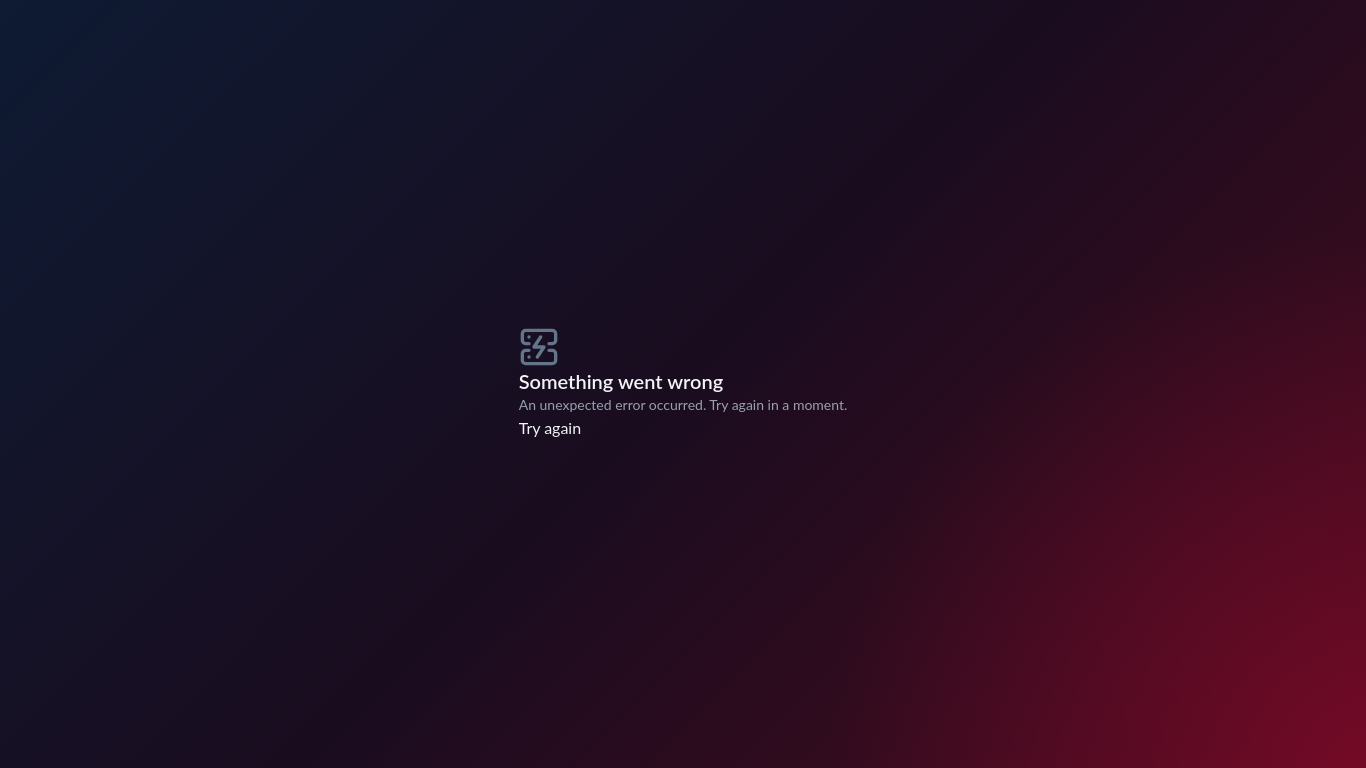
errors › boundary shows 500 and resets
Expected: the message shows "Something went wrong", [519,369,723,393]
Click the button "Try again".
click(550, 428)  # box [519,415,581,441]
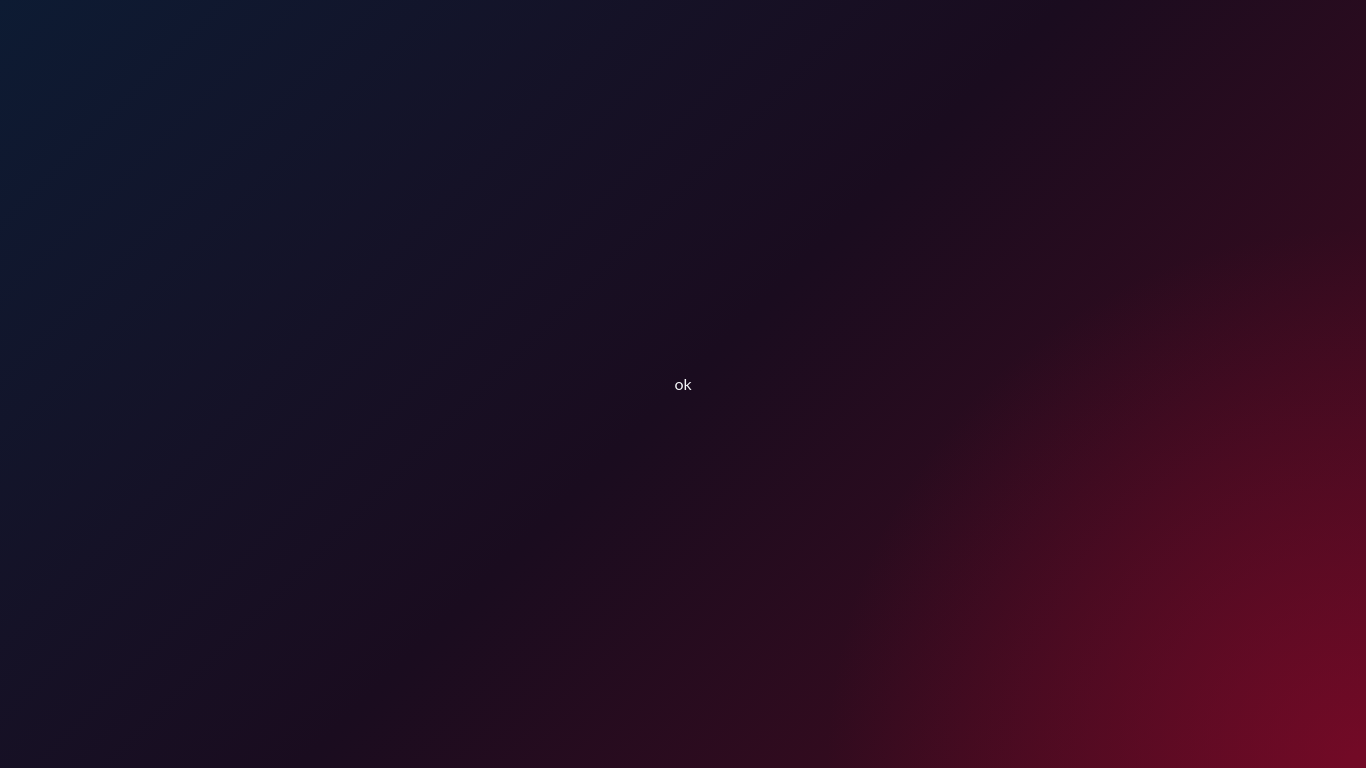
Expected: the text "ok" is shown, [674,371,692,397]
